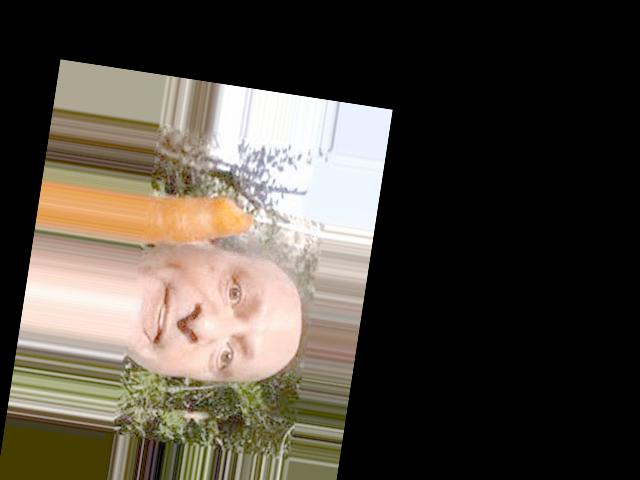carrot: (138, 184, 260, 263)
